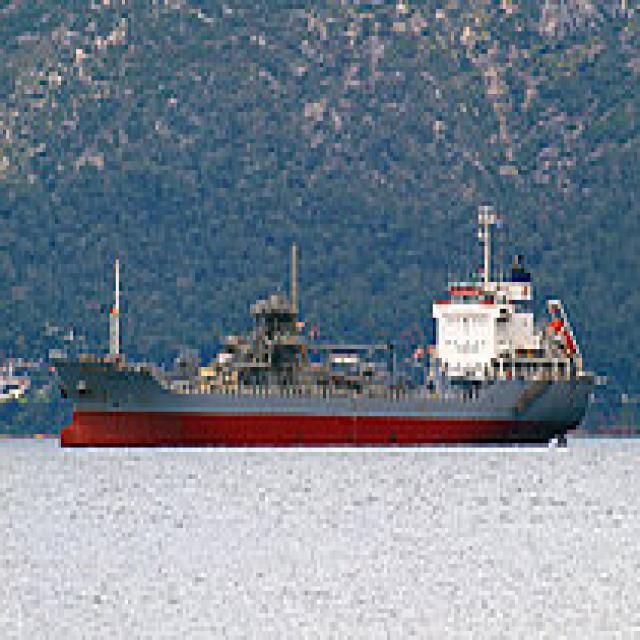Cargo: (52, 197, 603, 452)
